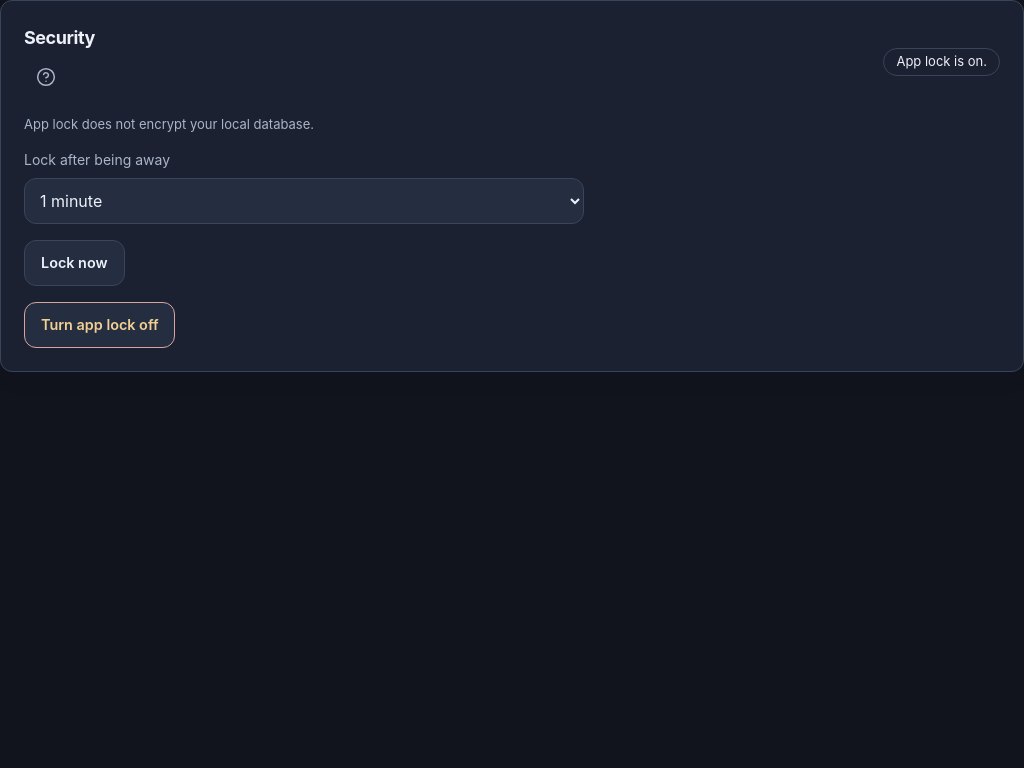
Scenario: refuses stale lock-delay Undo after a later setting change
The width and height of the screenshot is (1024, 768).
Select "5 minutes" in the dropdown labelled "Lock after being away" at (304, 200), box [24,178,584,224]
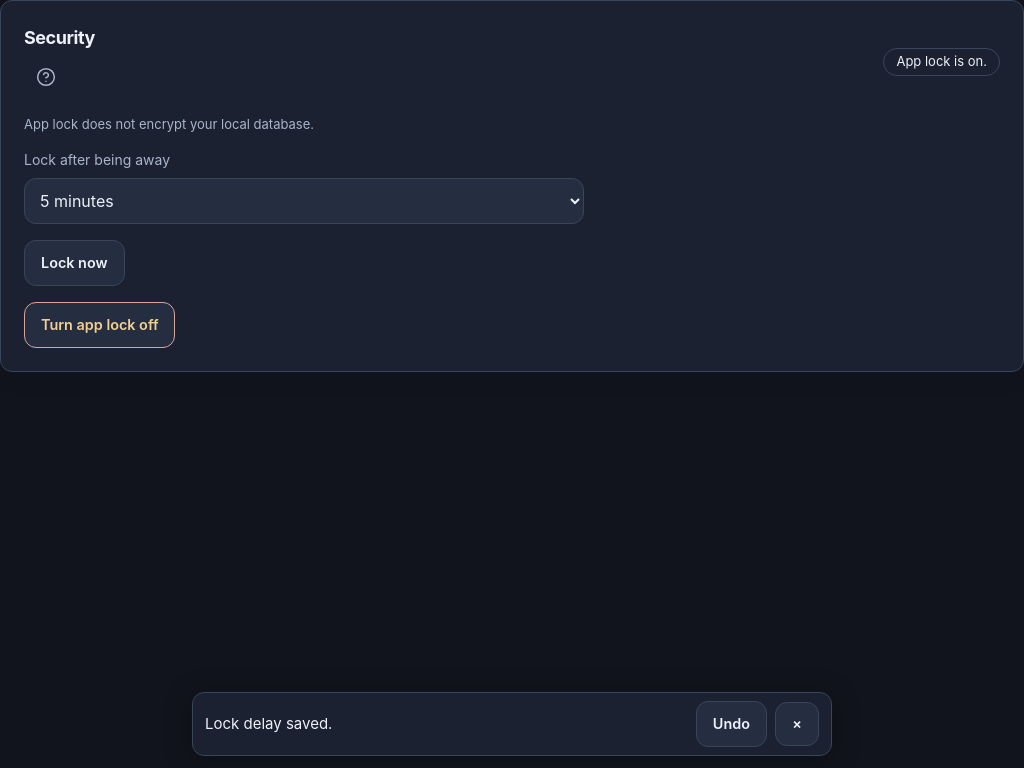
Click the button "Undo" at (731, 724), box [696,701,767,747]
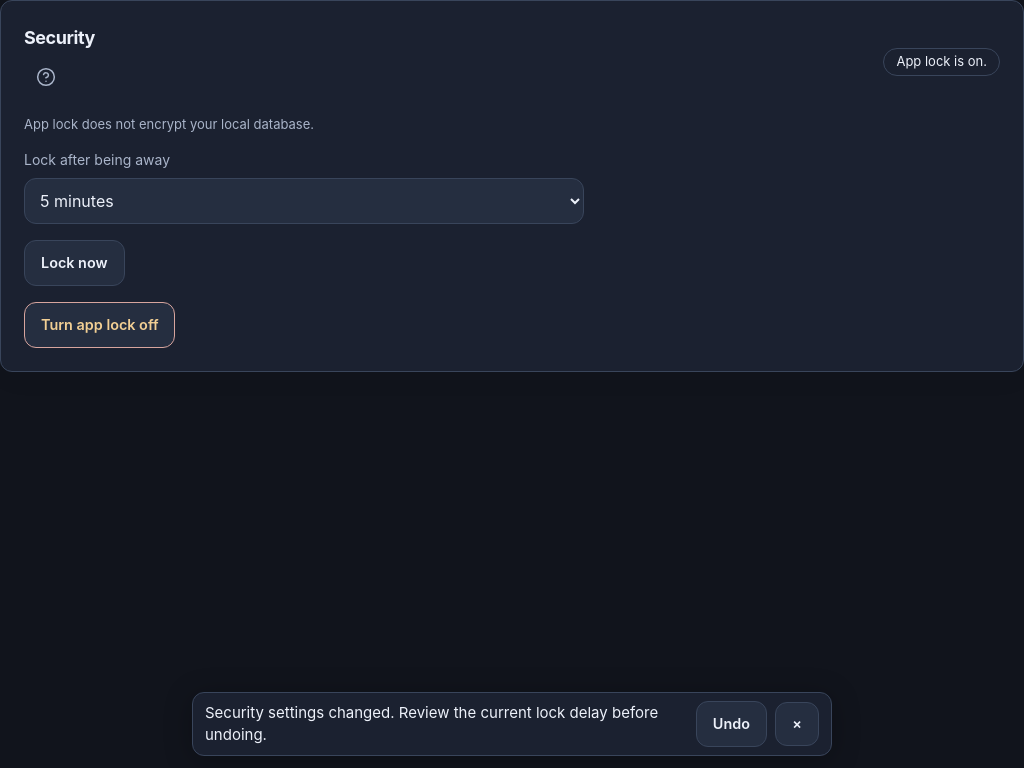
expect the text "Security settings changed" is shown: met, box [205,702,658,744]
